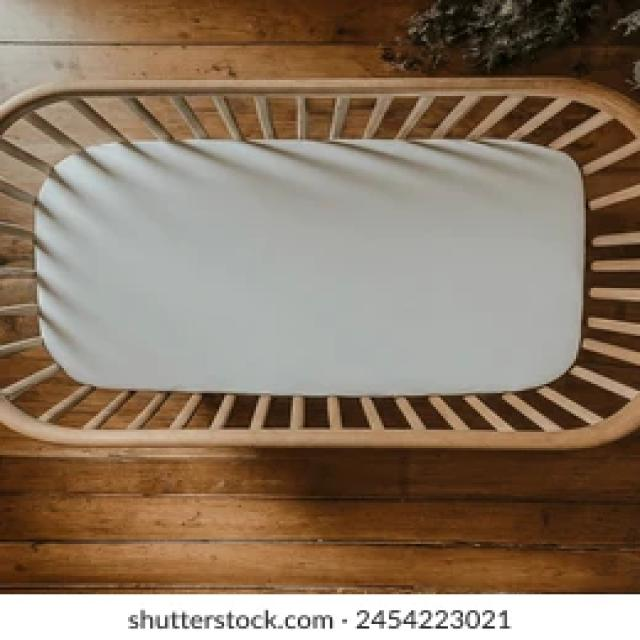crib: (0, 71, 640, 444)
